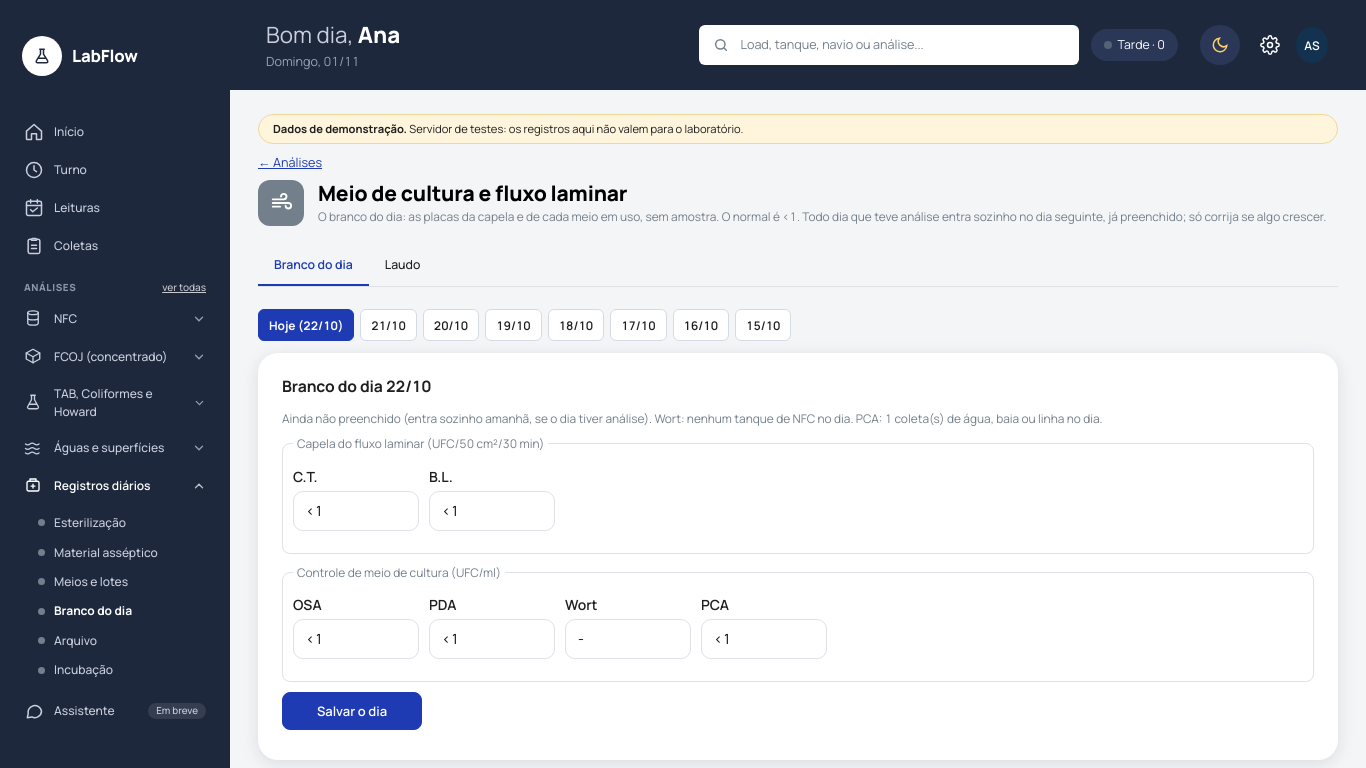
Test case: Branco do dia (APP-038) › traz a sugestão, explica o traço e salva
Check: the text "Wort: nenhum tanque de NFC no dia" is shown, box [282,410,1103,427]
Check: the field labelled "Wort" holds "-", box [565,619,691,659]
Click the button "Salvar o dia" at (352, 711), box [282,692,422,730]
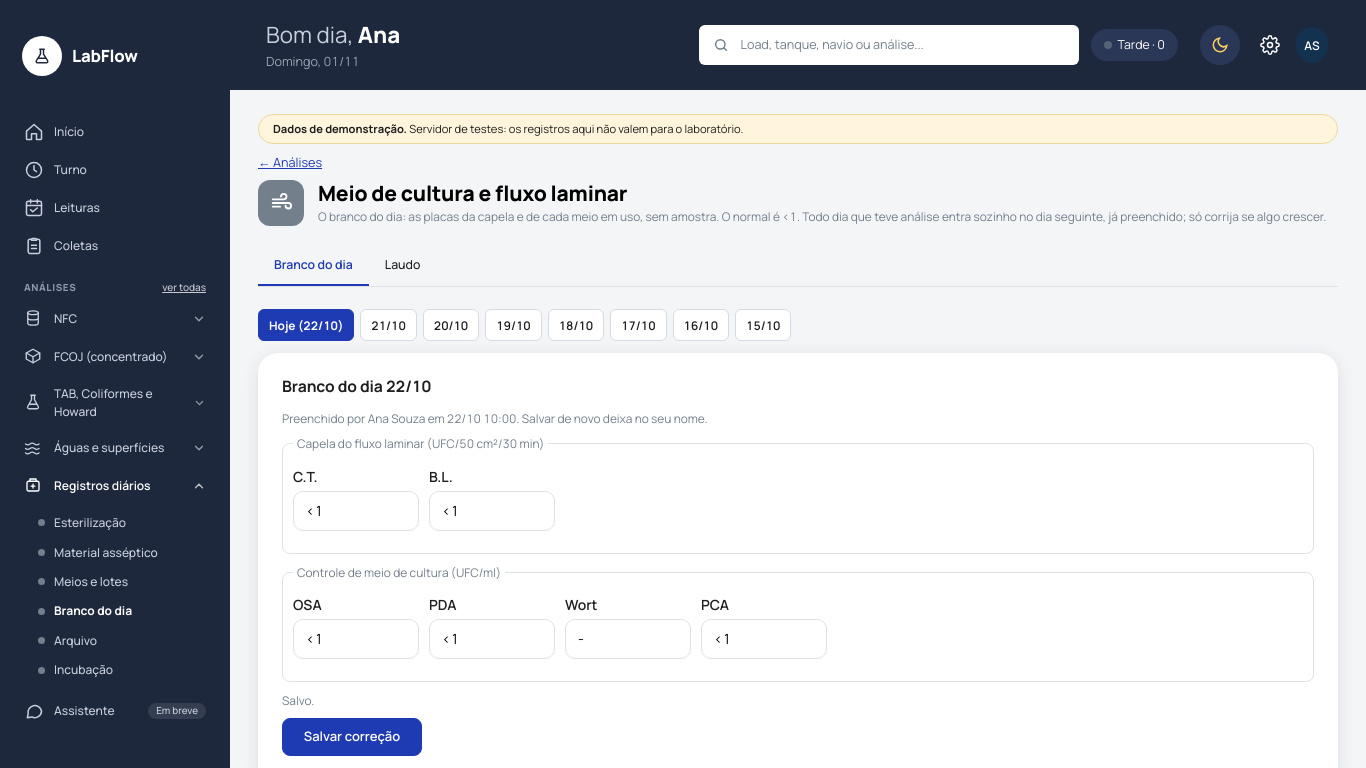
Check: the text "Preenchido por Ana Souza" is shown, box [282,410,708,427]
